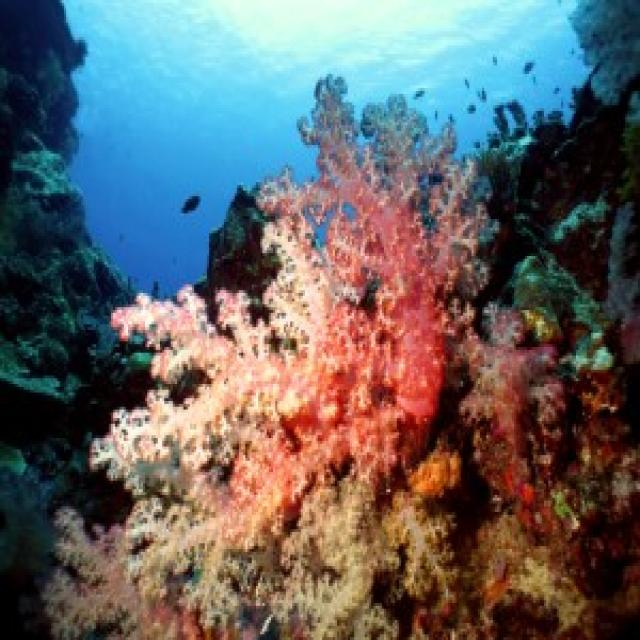Coral: (42, 75, 640, 640)
